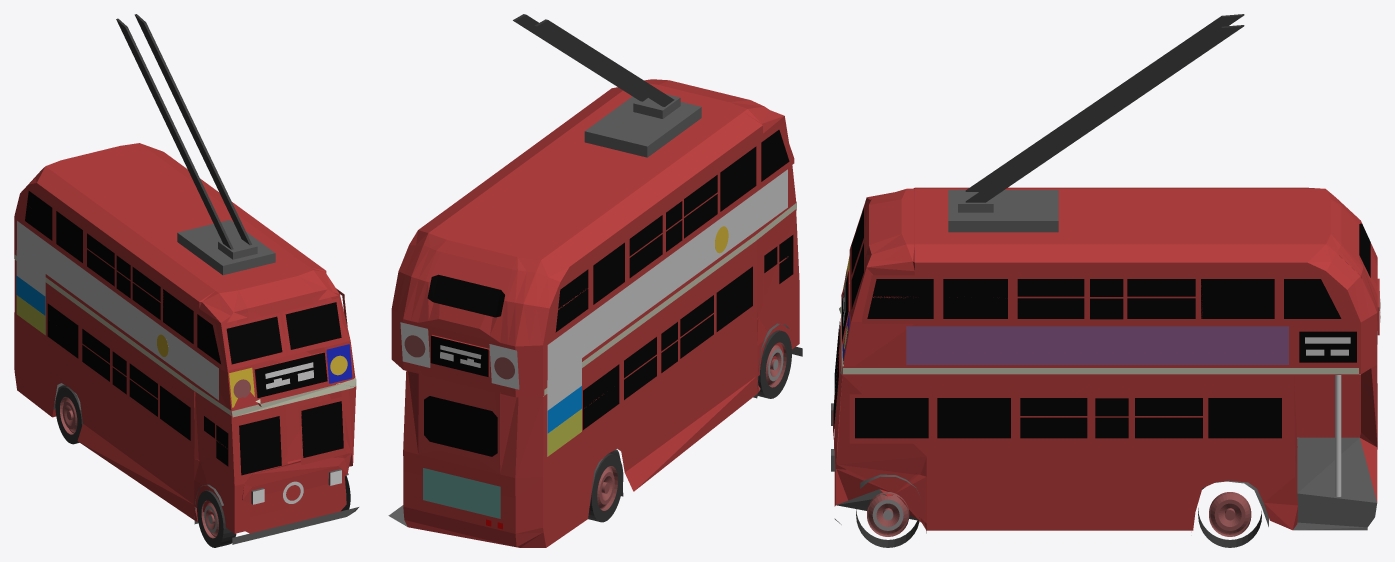
File: aec-rml-trolley.dae
3 renders of one model, left to right at view 1: azimuth 30°, elevation 25°; view 2: azimuth 150°, elevation 25°; view 3: azimuth 270°, elevation 25°, orthographic. The views are drawn at different scales.
Parts seen in each view (by area): view 1: Cube, Plane_010, Plane_016, Plane_000, Cube_005, Plane_006, Plane_013, Plane_014, Cube_008, Cube_007, Circle, Circle_001 (+8 smaller); view 2: Cube, Plane_010, Plane_016, Plane_000, Cube_005, Plane_005, Plane_009, Plane_011, Cube_008, Circle_001, Circle, Plane_021 (+7 smaller); view 3: Cube, Plane_008, Plane_003, Plane_015, Cube_005, Cube_007, Plane_020, Cube_008, Circle_001, Circle, Plane_022, Cylinder.
Boxes of the visible parts, box(x1,y1,x2,y2) form: Cube: box(14, 143, 358, 544); Plane_010: box(22, 186, 225, 371); Plane_016: box(17, 221, 218, 400); Plane_000: box(45, 299, 194, 448); Cube_005: box(177, 220, 275, 275); Plane_006: box(298, 396, 346, 464); Plane_013: box(282, 298, 345, 355); Plane_014: box(223, 312, 285, 369); Cube_008: box(116, 18, 233, 249); Cube_007: box(134, 14, 251, 245); Circle: box(197, 475, 350, 547); Circle_001: box(55, 386, 82, 444); Cube: box(388, 79, 802, 547); Plane_010: box(553, 122, 794, 339); Plane_016: box(547, 169, 787, 379); Plane_000: box(580, 259, 757, 437); Cube_005: box(584, 94, 701, 157); Plane_005: box(424, 396, 497, 456); Plane_009: box(423, 468, 500, 518); Plane_011: box(427, 274, 504, 317); Cube_008: box(535, 19, 674, 106); Circle_001: box(588, 453, 623, 522); Circle: box(757, 330, 791, 398); Plane_021: box(544, 202, 796, 395); Cube: box(834, 187, 1379, 530); Plane_008: box(862, 275, 1350, 324); Plane_003: box(849, 394, 1291, 443); Plane_015: box(906, 326, 1288, 364); Cube_005: box(948, 189, 1058, 232); Cube_007: box(965, 25, 1244, 202); Plane_020: box(843, 368, 1358, 374); Cube_008: box(965, 14, 1244, 191); Circle_001: box(1198, 492, 1261, 547); Circle: box(856, 492, 919, 547); Plane_022: box(1299, 331, 1356, 362); Cylinder: box(1335, 375, 1341, 496).
Size of the model in its own units: 1.74 by 5.12 by 5.04.
